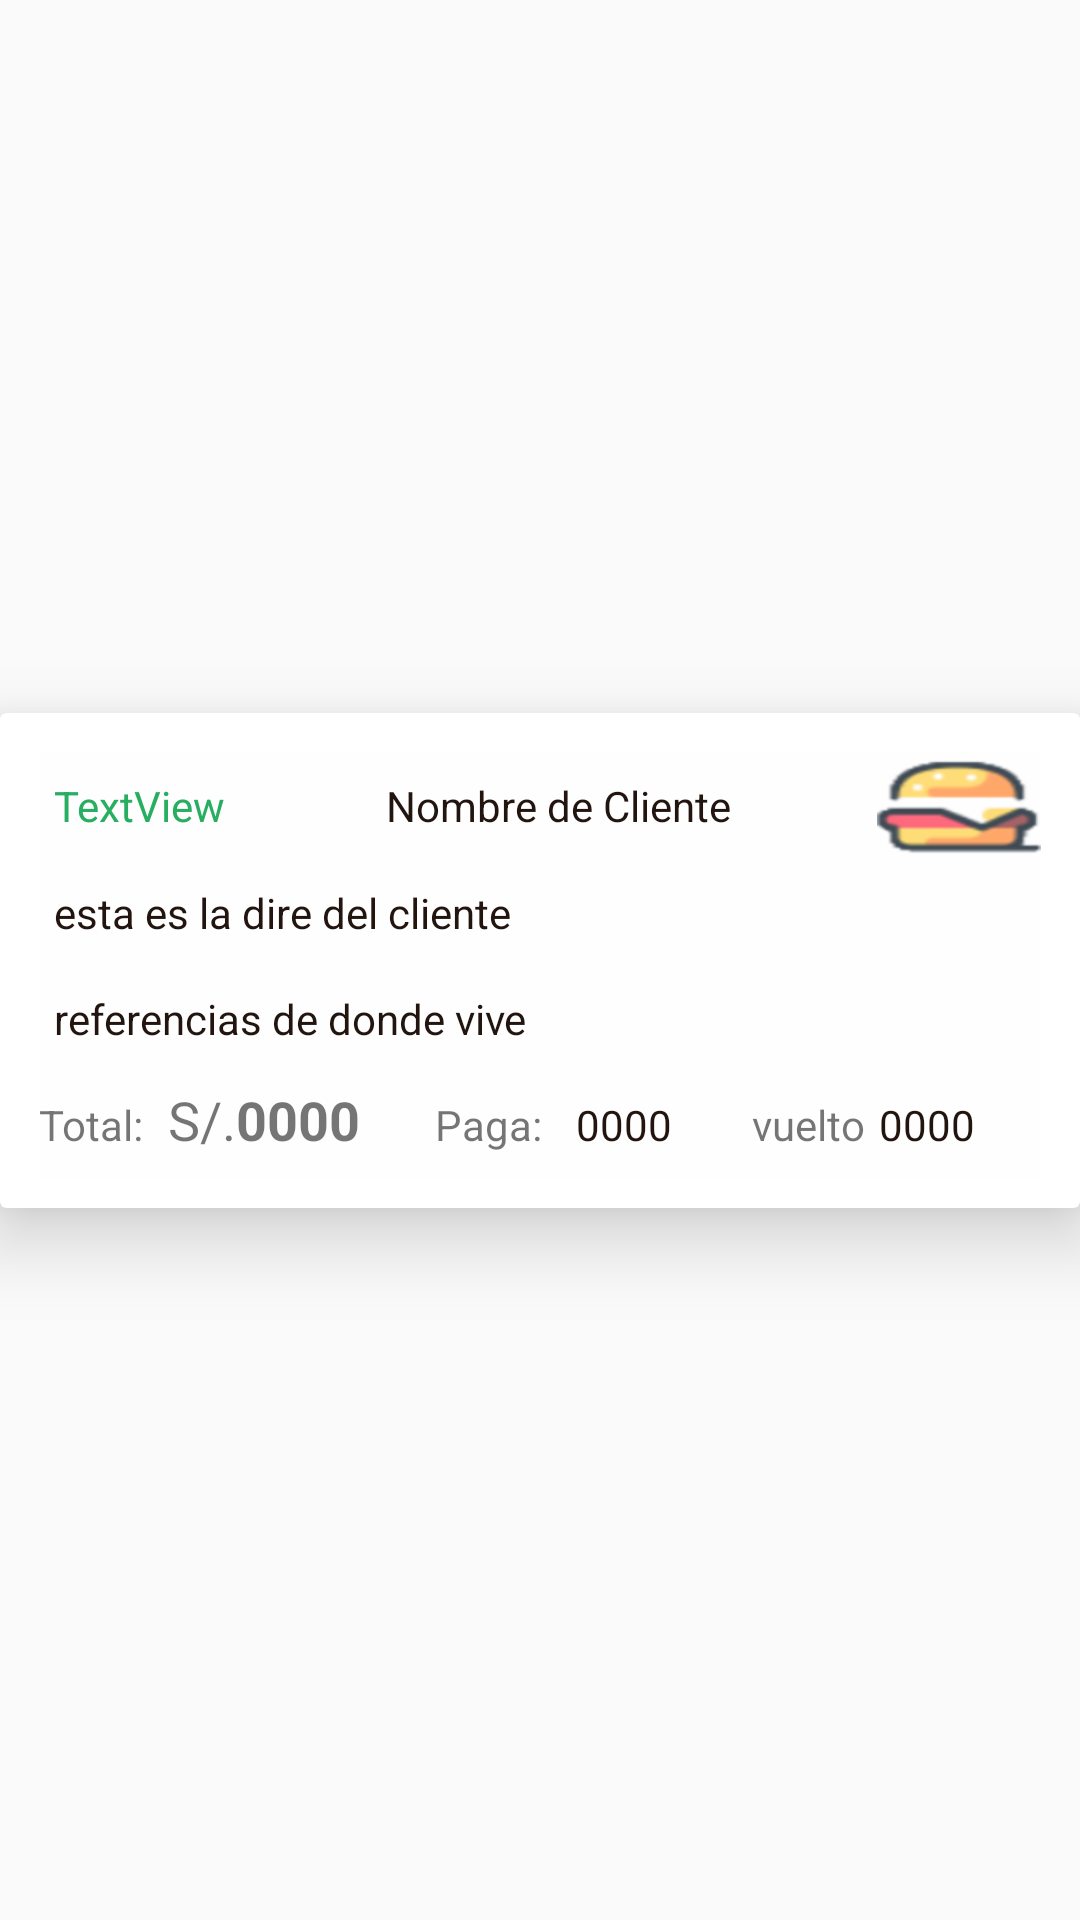

Where to tap for icons on this 1080px×1920px app screen, as [x,y]:
burger: [959,807]
